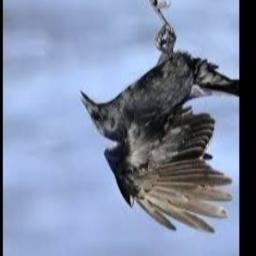Crow: (79, 0, 239, 234)
